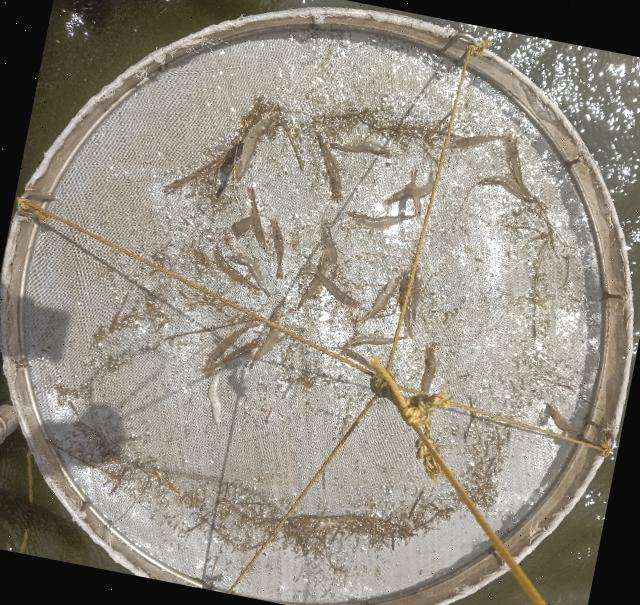shrimp: (237, 108, 279, 181), (304, 259, 362, 309), (205, 317, 259, 365), (201, 336, 263, 377), (212, 246, 260, 294), (352, 273, 400, 320), (224, 249, 270, 296), (248, 308, 280, 369), (315, 130, 342, 200), (478, 173, 536, 201), (296, 258, 327, 309), (504, 127, 527, 193), (345, 209, 417, 230), (448, 125, 511, 147), (382, 180, 435, 206), (246, 185, 265, 250), (337, 345, 378, 373), (321, 217, 337, 279), (337, 333, 403, 348), (329, 140, 390, 156), (268, 216, 283, 279), (421, 343, 438, 393), (411, 261, 425, 319), (401, 268, 412, 339), (207, 372, 221, 423), (409, 168, 421, 219)
